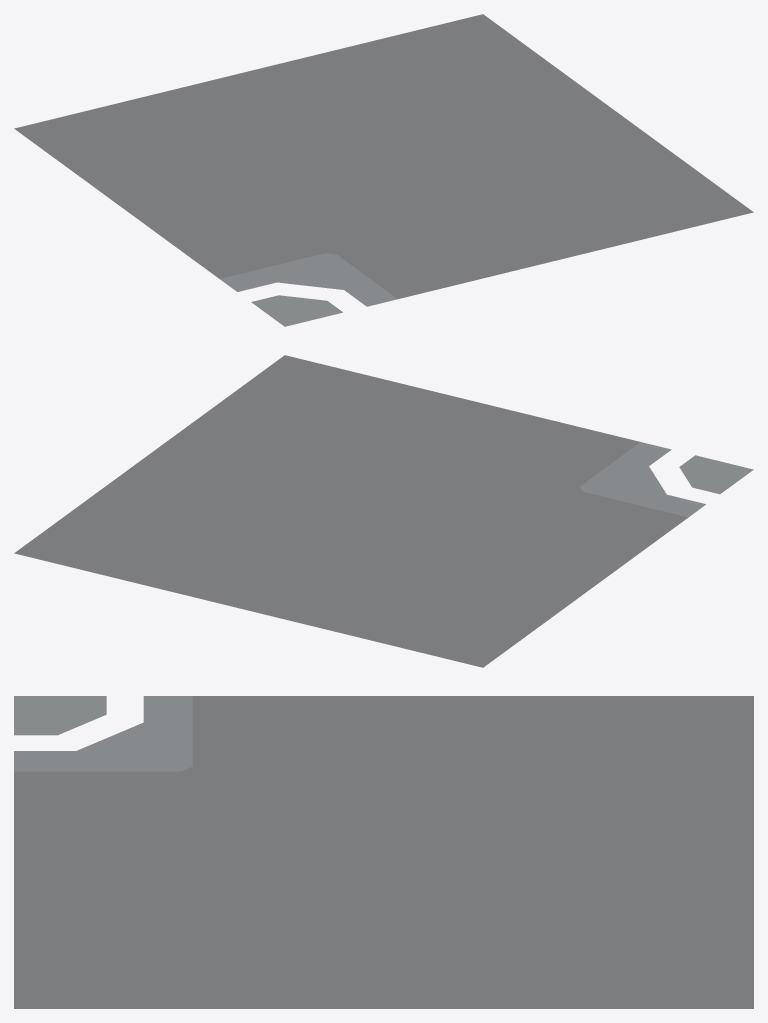
Rendered from Ceiling_type_B_008.glb.
3 views of the same model, one above another, from view 1: azimuth 30°, elevation 25°; view 2: azimuth 150°, elevation 25°; view 3: azimuth 270°, elevation 25° (orthographic). The views are drawn at different scales.
Parts seen in each view (by area): view 1: Ceiling_type_B_008; view 2: Ceiling_type_B_008; view 3: Ceiling_type_B_008.
Part boxes in pixels (x1=…): Ceiling_type_B_008: x1=14, y1=14, x2=753, y2=326; Ceiling_type_B_008: x1=14, y1=355, x2=753, y2=667; Ceiling_type_B_008: x1=14, y1=696, x2=753, y2=1008.
Bounding box in the file's own units: 4 × 0.0455 × 4.
Materials: 2 (2 with a texture image).
